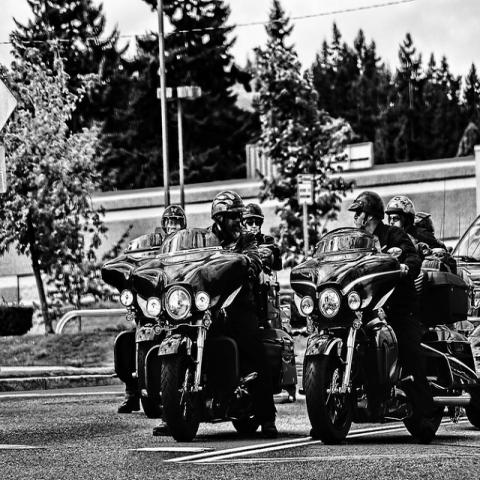car: (452, 212, 480, 302)
motorcycle: (278, 228, 412, 442), (161, 278, 291, 438), (104, 247, 210, 408)
